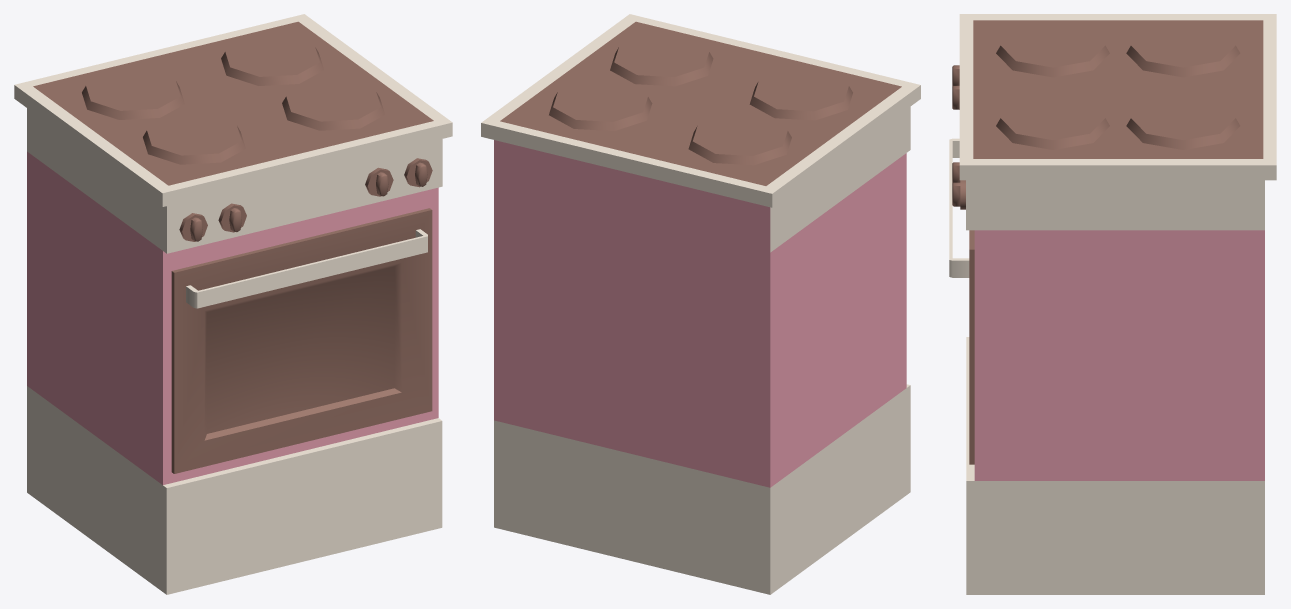
File: oven.glb
3 renders of one model, left to right at view 1: azimuth 30°, elevation 25°; view 2: azimuth 150°, elevation 25°; view 3: azimuth 270°, elevation 25°, orthographic. The views are drawn at different scales.
Parts seen in each view (by area): view 1: Kitchen_Oven_Large; view 2: Kitchen_Oven_Large; view 3: Kitchen_Oven_Large.
Boxes of the visible parts, x1,y1,x2,y2 form: Kitchen_Oven_Large: [14, 14, 452, 594]; Kitchen_Oven_Large: [481, 14, 920, 594]; Kitchen_Oven_Large: [949, 14, 1276, 594].
Bounding box in the file's own units: 1.17 × 1.59 × 1.07.
